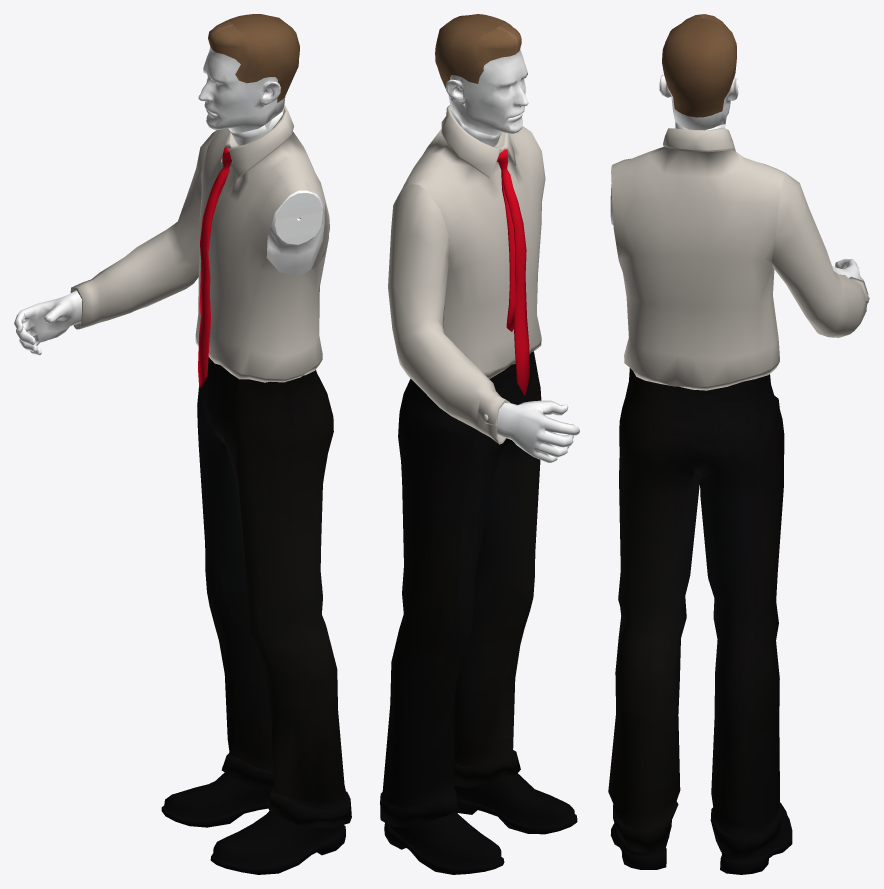
File: Maniqui.obj
3 renders of one model, left to right at view 1: azimuth 30°, elevation 25°; view 2: azimuth 150°, elevation 25°; view 3: azimuth 270°, elevation 25°, orthographic.
Visible parts, largest first — view 1: Maniqui4:initialShadingGroupMesh22; view 2: Maniqui4:initialShadingGroupMesh22; view 3: Maniqui4:initialShadingGroupMesh22.
Part boxes in pixels (x1,y1,x2,y2): Maniqui4:initialShadingGroupMesh22: [14, 14, 351, 874]; Maniqui4:initialShadingGroupMesh22: [380, 14, 579, 874]; Maniqui4:initialShadingGroupMesh22: [608, 14, 869, 874].
Size of the model in its own units: 0.9082 by 2.9 by 0.839.
Materials: 6 (6 with a texture image).
